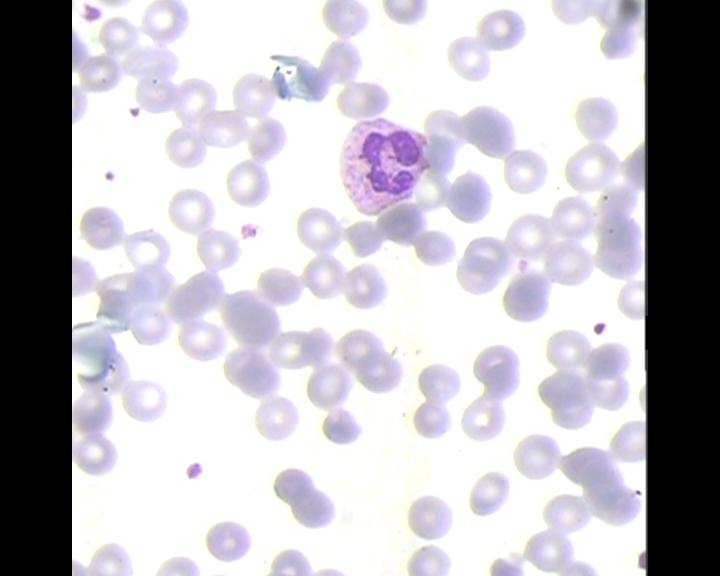neut: (335, 116, 431, 216)
